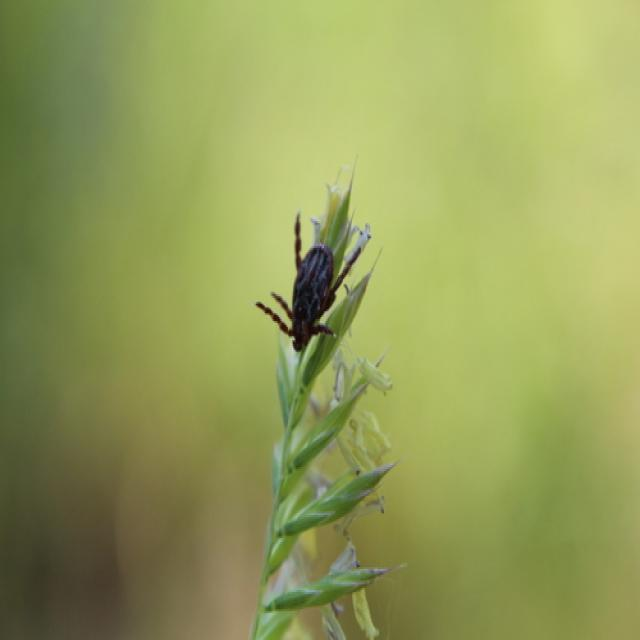Dermacentor Reticulatus-M: (255, 206, 364, 354)
